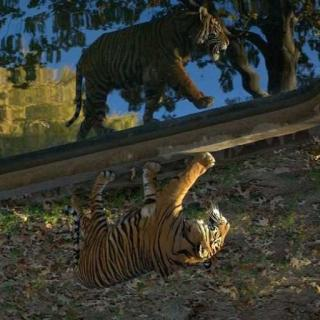Tiger: (48, 150, 242, 302), (58, 4, 254, 130)
